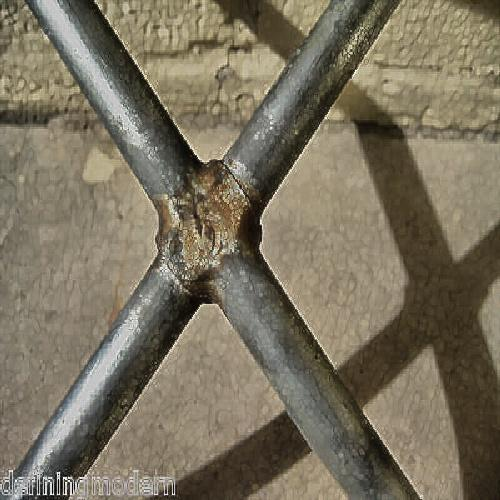chair: (50, 19, 391, 480)
